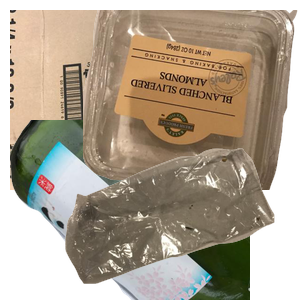cardboard: (10, 10, 250, 190)
glass: (10, 120, 250, 300)
plastic: (83, 10, 300, 190)
trash: (63, 145, 300, 300)
